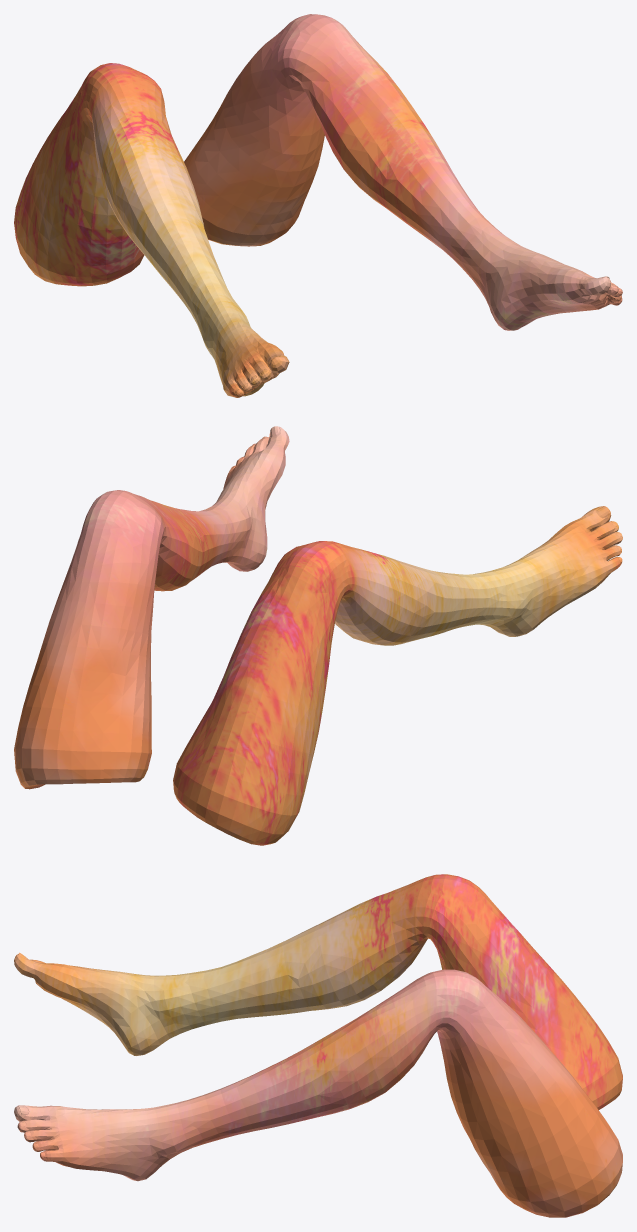
File: BandLeg0928.fbx
3 views of the same model, one above another, from view 1: azimuth 30°, elevation 25°; view 2: azimuth 150°, elevation 25°; view 3: azimuth 270°, elevation 25° (orthographic). The views are drawn at different scales.
Parts seen in each view (by area): view 1: BandLegs; view 2: BandLegs; view 3: BandLegs.
Boxes of the visible parts, left/top/right/bottom form: BandLegs: left=14, top=14, right=622, bottom=397; BandLegs: left=14, top=426, right=622, bottom=845; BandLegs: left=14, top=874, right=622, bottom=1217.
Bounding box in the file's own units: 295 × 182 × 420.
1 material, 1 textured.
